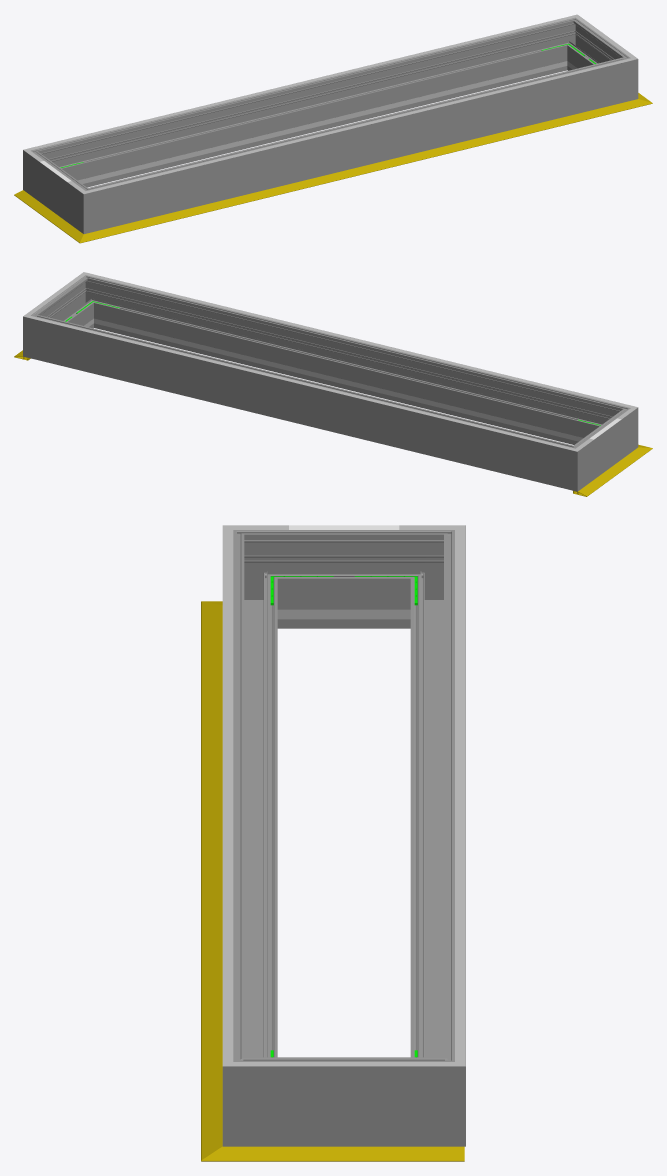
3 renders of one model, top to bottom at view 1: azimuth 30°, elevation 25°; view 2: azimuth 150°, elevation 25°; view 3: azimuth 270°, elevation 25°, orthographic. The views are drawn at different scales.
Visible parts, largest first — view 1: 3DGeom-276, 3DGeom-298, 3DGeom-28, 3DGeom-244, 3DGeom-270, 3DGeom-304, 3DGeom-316, 3DGeom-290, 3DGeom-268, 3DGeom-284, 3DGeom-297, 3DGeom-278 (+2 smaller); view 2: 3DGeom-298, 3DGeom-276, 3DGeom-239, 3DGeom-278, 3DGeom-304, 3DGeom-316, 3DGeom-284, 3DGeom-268, 3DGeom-290, 3DGeom-297, 3DGeom-270, 3DGeom-38; view 3: 3DGeom-276, 3DGeom-298, 3DGeom-28, 3DGeom-268, 3DGeom-297, 3DGeom-284, 3DGeom-290, 3DGeom-316, 3DGeom-304, 3DGeom-278, 3DGeom-270, 3DGeom-30 (+1 smaller).
Part boxes in pixels (box(x1,y1,x2,y2)): 3DGeom-276: box(54, 23, 562, 187); 3DGeom-298: box(107, 62, 609, 227); 3DGeom-28: box(103, 104, 624, 236); 3DGeom-244: box(88, 68, 539, 182); 3DGeom-270: box(67, 180, 112, 233); 3DGeom-304: box(52, 21, 550, 144); 3DGeom-316: box(110, 64, 608, 187); 3DGeom-290: box(604, 48, 638, 105); 3DGeom-268: box(39, 159, 76, 221); 3DGeom-284: box(551, 17, 589, 71); 3DGeom-297: box(570, 27, 616, 69); 3DGeom-278: box(23, 145, 65, 201); 3DGeom-298: box(98, 281, 606, 444); 3DGeom-276: box(51, 319, 553, 484); 3DGeom-239: box(121, 325, 572, 439); 3DGeom-278: box(549, 437, 593, 491); 3DGeom-304: box(52, 321, 550, 444); 3DGeom-316: box(110, 279, 608, 402); 3DGeom-284: box(23, 305, 56, 363); 3DGeom-268: box(585, 417, 621, 479); 3DGeom-290: box(72, 275, 109, 328); 3DGeom-297: box(43, 285, 90, 327); 3DGeom-270: box(596, 402, 638, 458); 3DGeom-38: box(573, 455, 636, 496); 3DGeom-276: box(410, 553, 465, 1057); 3DGeom-298: box(233, 553, 277, 1057); 3DGeom-28: box(201, 624, 222, 1132); 3DGeom-268: box(288, 530, 399, 628); 3DGeom-297: box(288, 1057, 399, 1146); 3DGeom-284: box(399, 1038, 465, 1146); 3DGeom-290: box(222, 1038, 288, 1146); 3DGeom-316: box(222, 553, 233, 1038); 3DGeom-304: box(455, 553, 465, 1038); 3DGeom-278: box(399, 525, 465, 628); 3DGeom-270: box(233, 530, 288, 628); 3DGeom-30: box(267, 1146, 464, 1161).
Size of the model in its own units: 3.05 by 0.2195 by 0.6096.
